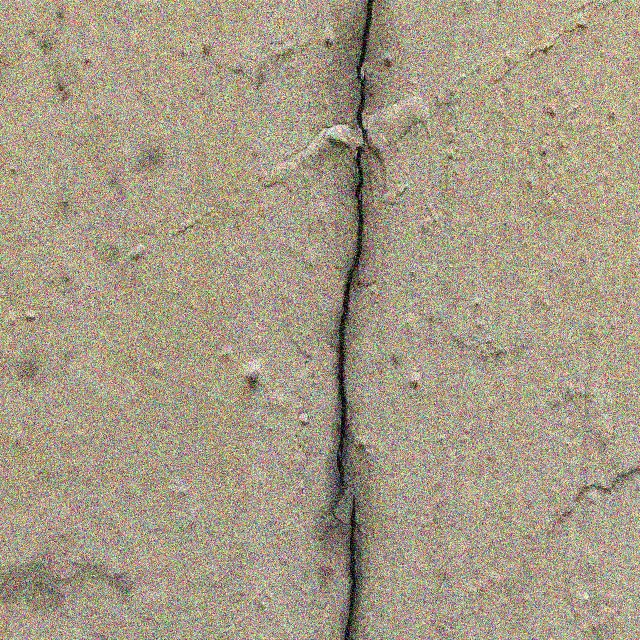SurfaceCrack: (277, 1, 413, 640)
